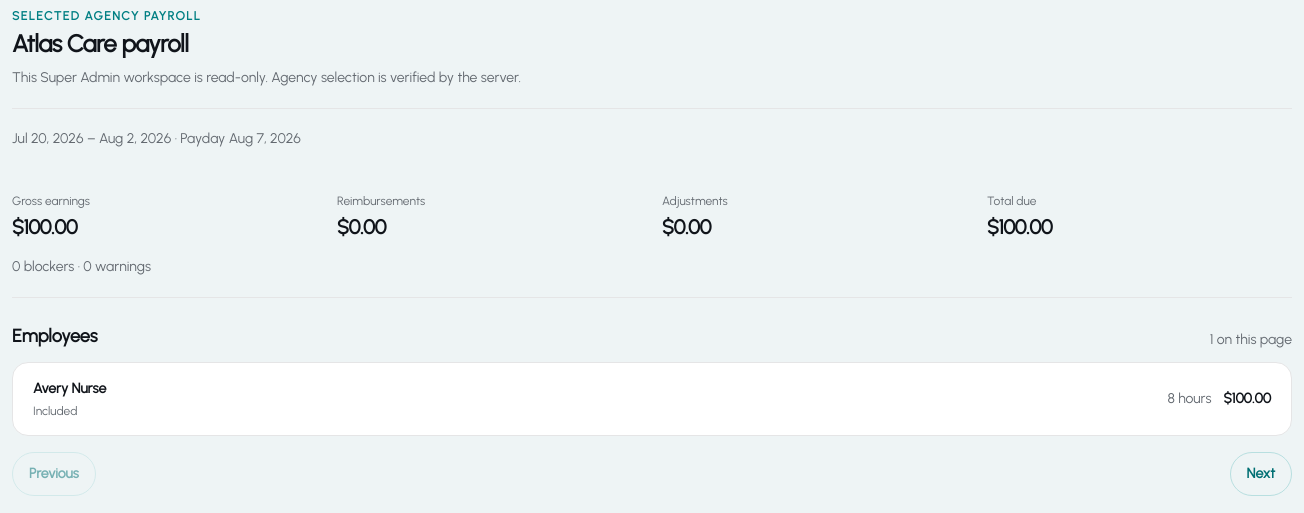
Test: SuperAdminAgencyPayrollRunsWorkspace › loads the next selected-agency employee page without truncating at 50 rows
Check: the text "Avery Nurse" is shown, box 33,380 -> 106,397
Click the button with aria-label "Next employee page": point(1261, 474) 1230,452 -> 1292,496
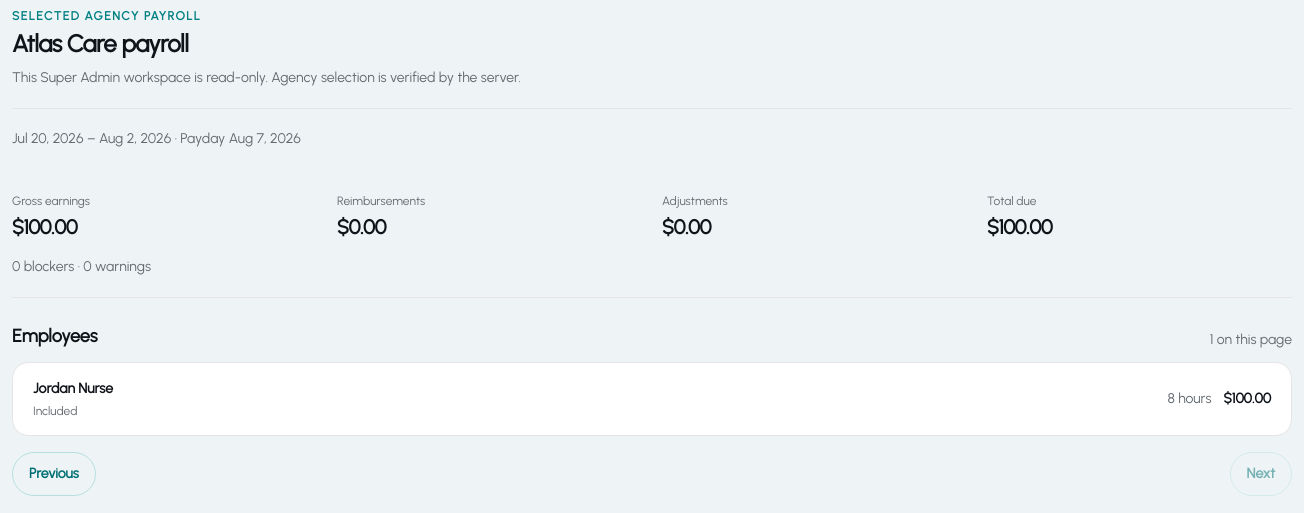
Check: the text "Jordan Nurse" is shown, box 33,380 -> 113,397
Check: the text "Avery Nurse" is gone
Check: the button with aria-label "Previous employee page" is enabled, box 12,452 -> 96,496
